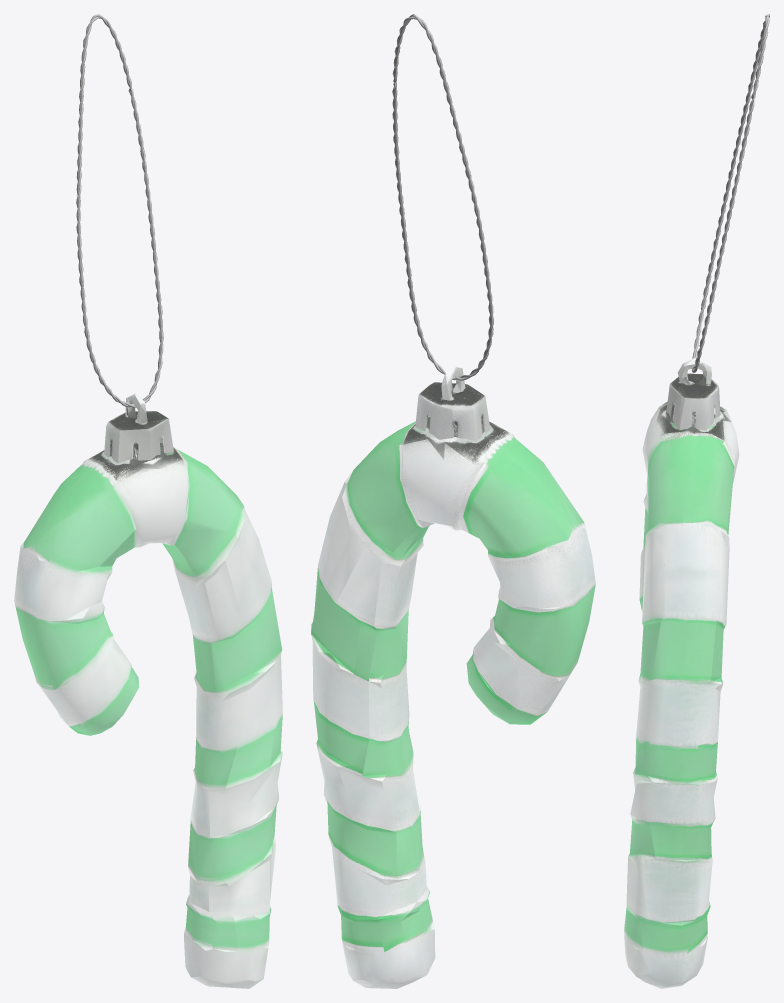
File: Candy_cane3.glb
3 views of the same model, side by side, from view 1: azimuth 30°, elevation 25°; view 2: azimuth 150°, elevation 25°; view 3: azimuth 270°, elevation 25° (orthographic). The views are drawn at different scales.
Parts seen in each view (by area): view 1: Mesh1.0, GN Instance; view 2: Mesh1.0, GN Instance; view 3: Mesh1.0, GN Instance.
Part boxes in pixels (x1,y1,x2,y2): Mesh1.0: (14,393,282,988); GN Instance: (76,14,163,407); Mesh1.0: (311,367,595,988); GN Instance: (392,14,493,380); Mesh1.0: (624,358,739,988); GN Instance: (691,14,769,372).
Size of the model in its own units: 0.0383 by 0.1394 by 0.0199.
Materials: 2 (1 with a texture image).
